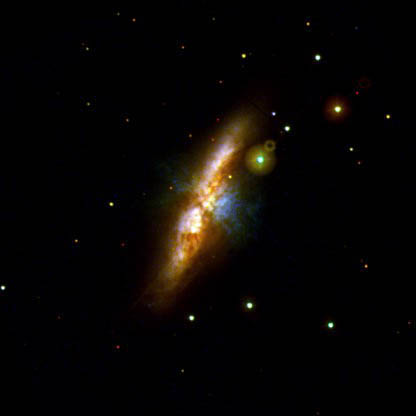Messier 82: (136, 94, 291, 322)
